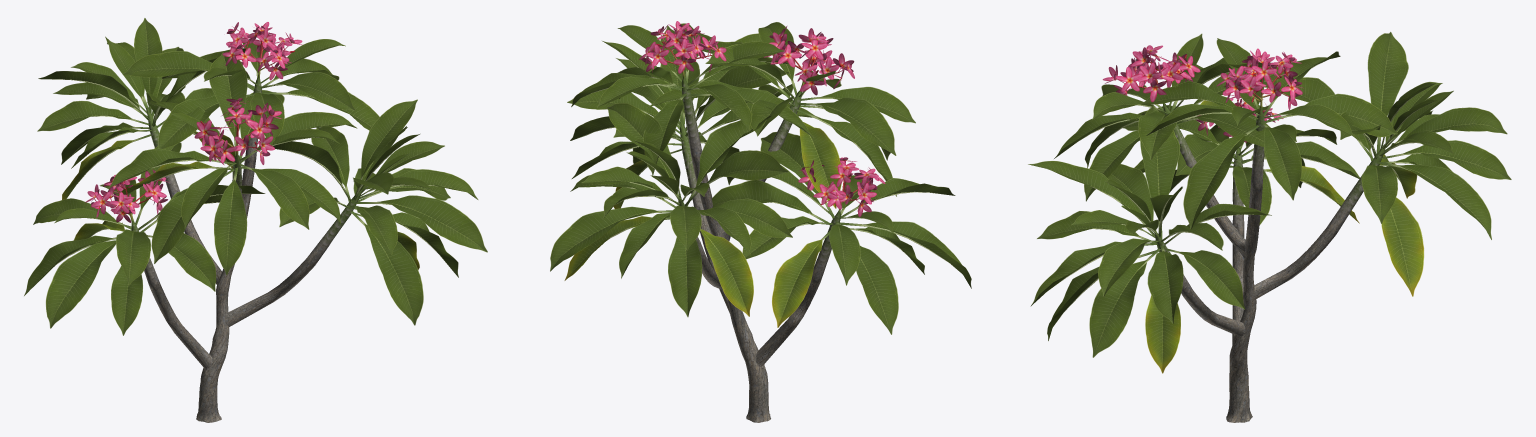
The model's file is frangipani_tree.glb.
3 views of the same model, side by side, from view 1: azimuth 30°, elevation 25°; view 2: azimuth 150°, elevation 25°; view 3: azimuth 270°, elevation 25° (orthographic). The views are drawn at different scales.
Visible parts, largest first — view 1: Plumeria_rubra_pink_HD; view 2: Plumeria_rubra_pink_HD; view 3: Plumeria_rubra_pink_HD.
Part boxes in pixels (x1=…): Plumeria_rubra_pink_HD: x1=24, y1=18, x2=487, y2=422; Plumeria_rubra_pink_HD: x1=550, y1=21, x2=971, y2=422; Plumeria_rubra_pink_HD: x1=1028, y1=32, x2=1511, y2=422.
Size of the model in its own units: 1.58 by 1.33 by 1.53.
Materials: 9 (9 with a texture image).
